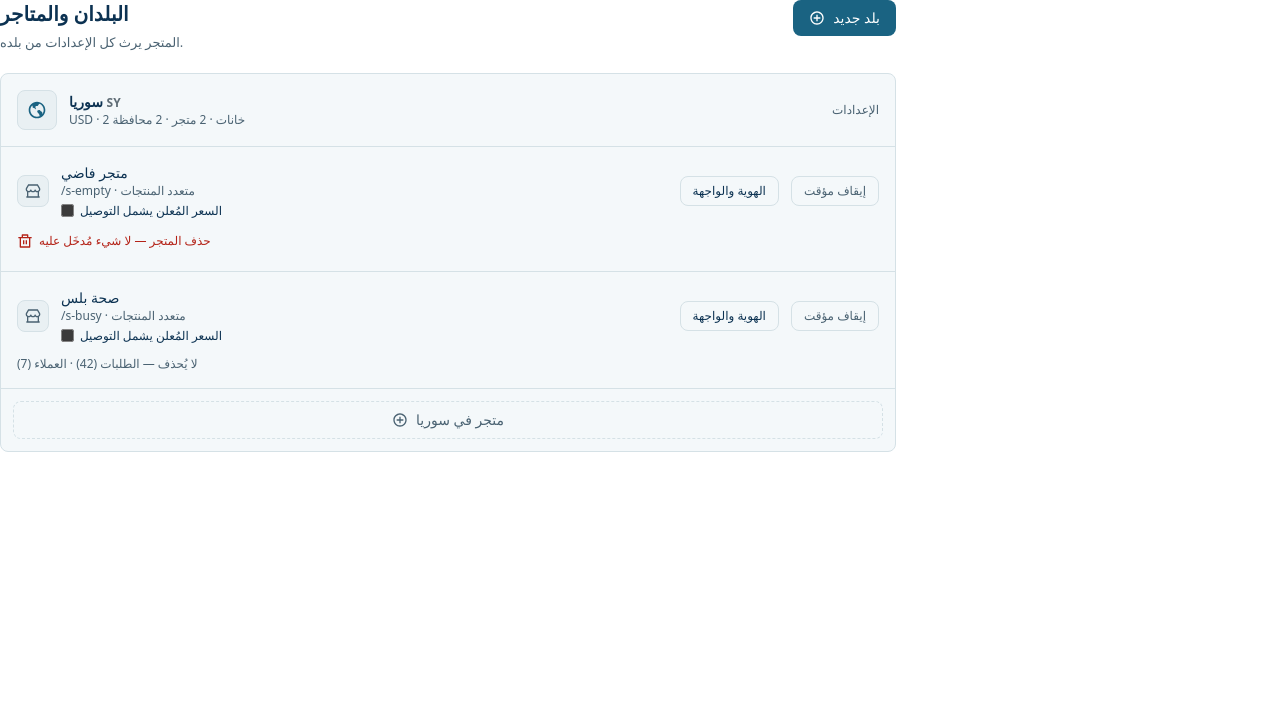
Test: the cities › and pressing the cross asks first — Cancel is no
Expected: the text "متجر فاضي" is shown, 61,163 -> 128,182
Expected: the text "لا يُحذف — الطلبات (42) · العملاء (7)" is shown, 17,355 -> 198,372
Step 1. Click the button "الإعدادات" → [856, 110], box 832,102 -> 879,118
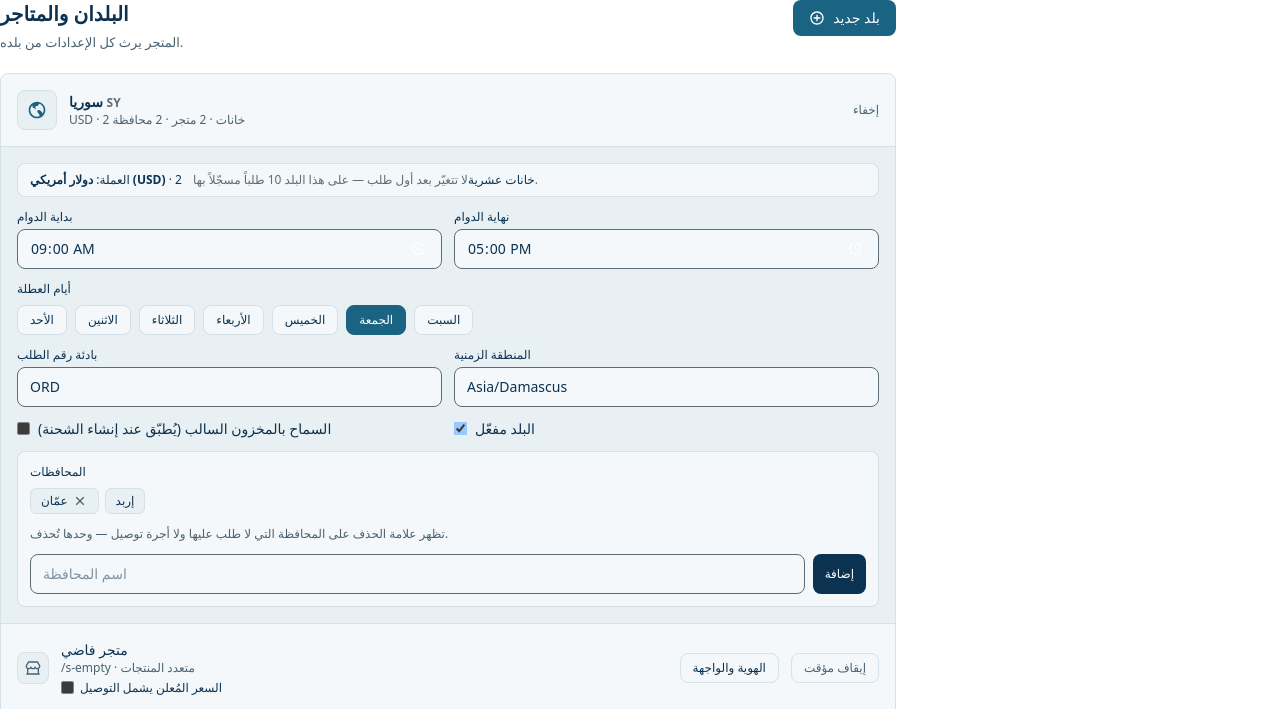
Expected: the text "إربد" is shown, 105,488 -> 145,514
Expected: the text "تظهر علامة الحذف" is shown, 30,525 -> 448,542
Step 2. Click the button named "حذف المحافظة عمّان" → [80, 501], box 72,493 -> 88,509
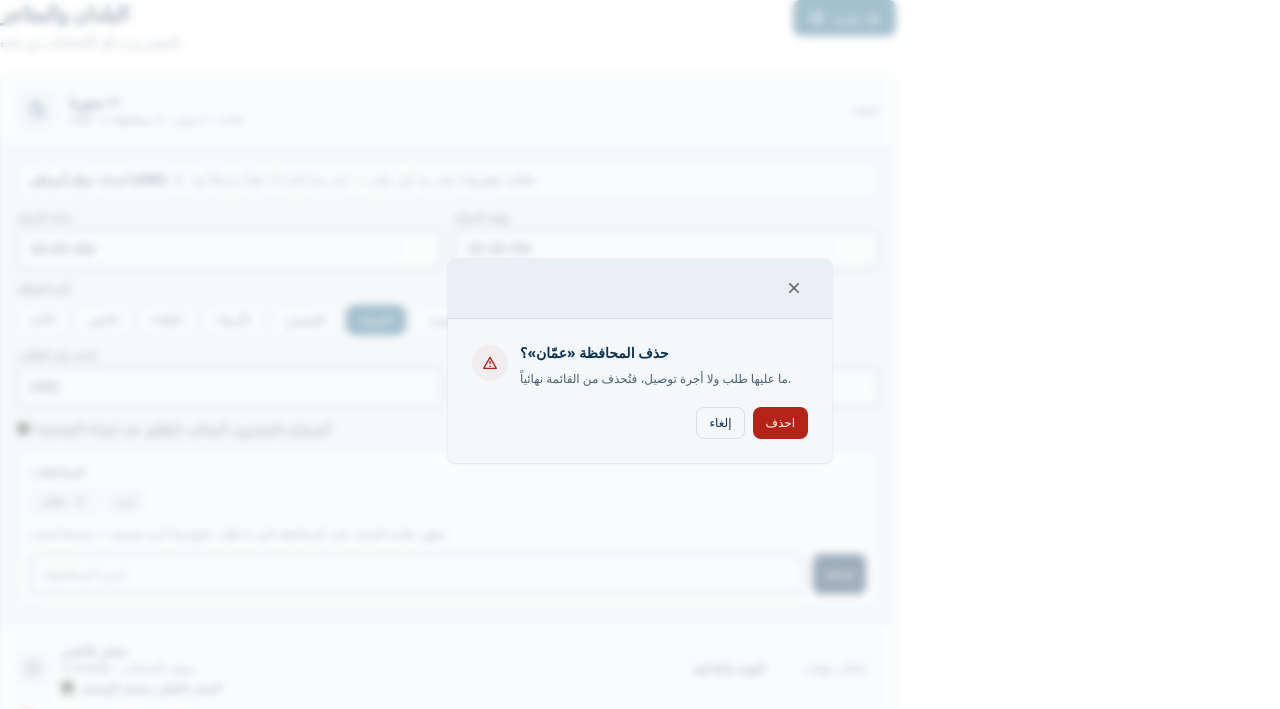
Expected: the text "حذف المحافظة «عمّان»؟" is shown, 520,342 -> 669,362
Step 3. Click the button "إلغاء" → [720, 422], box 696,406 -> 744,438
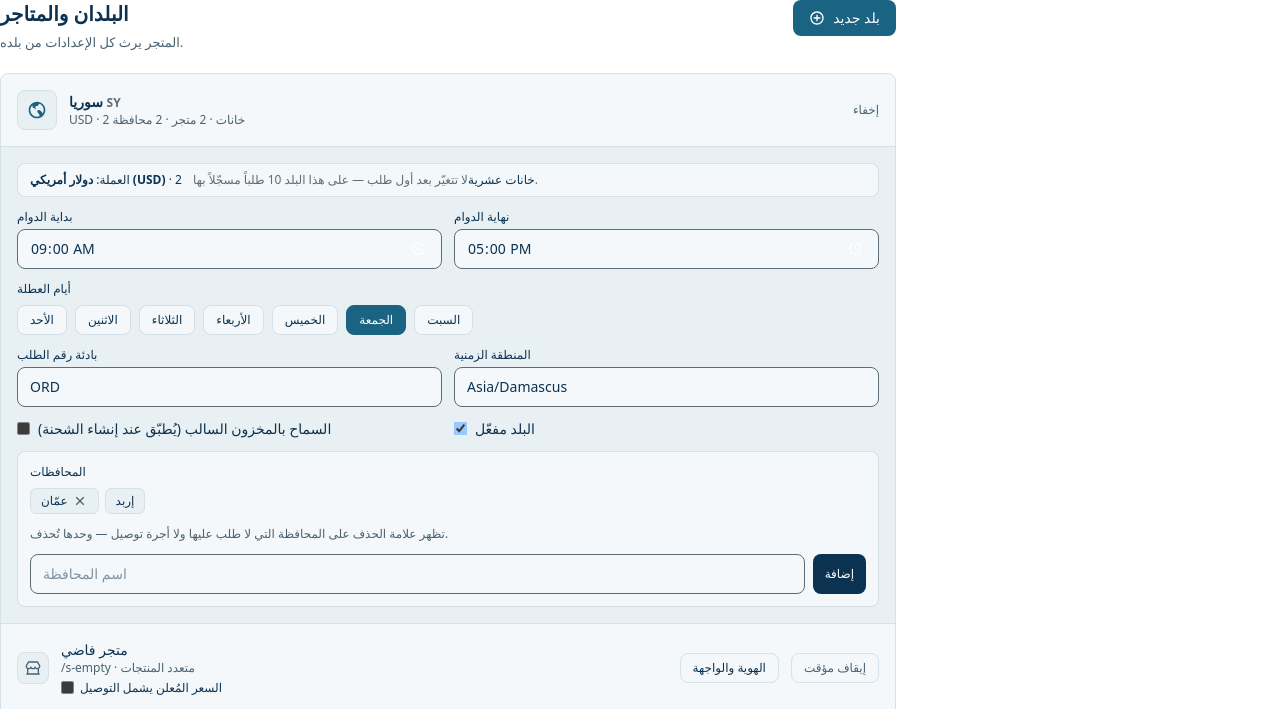
Expected: the dialog is gone
